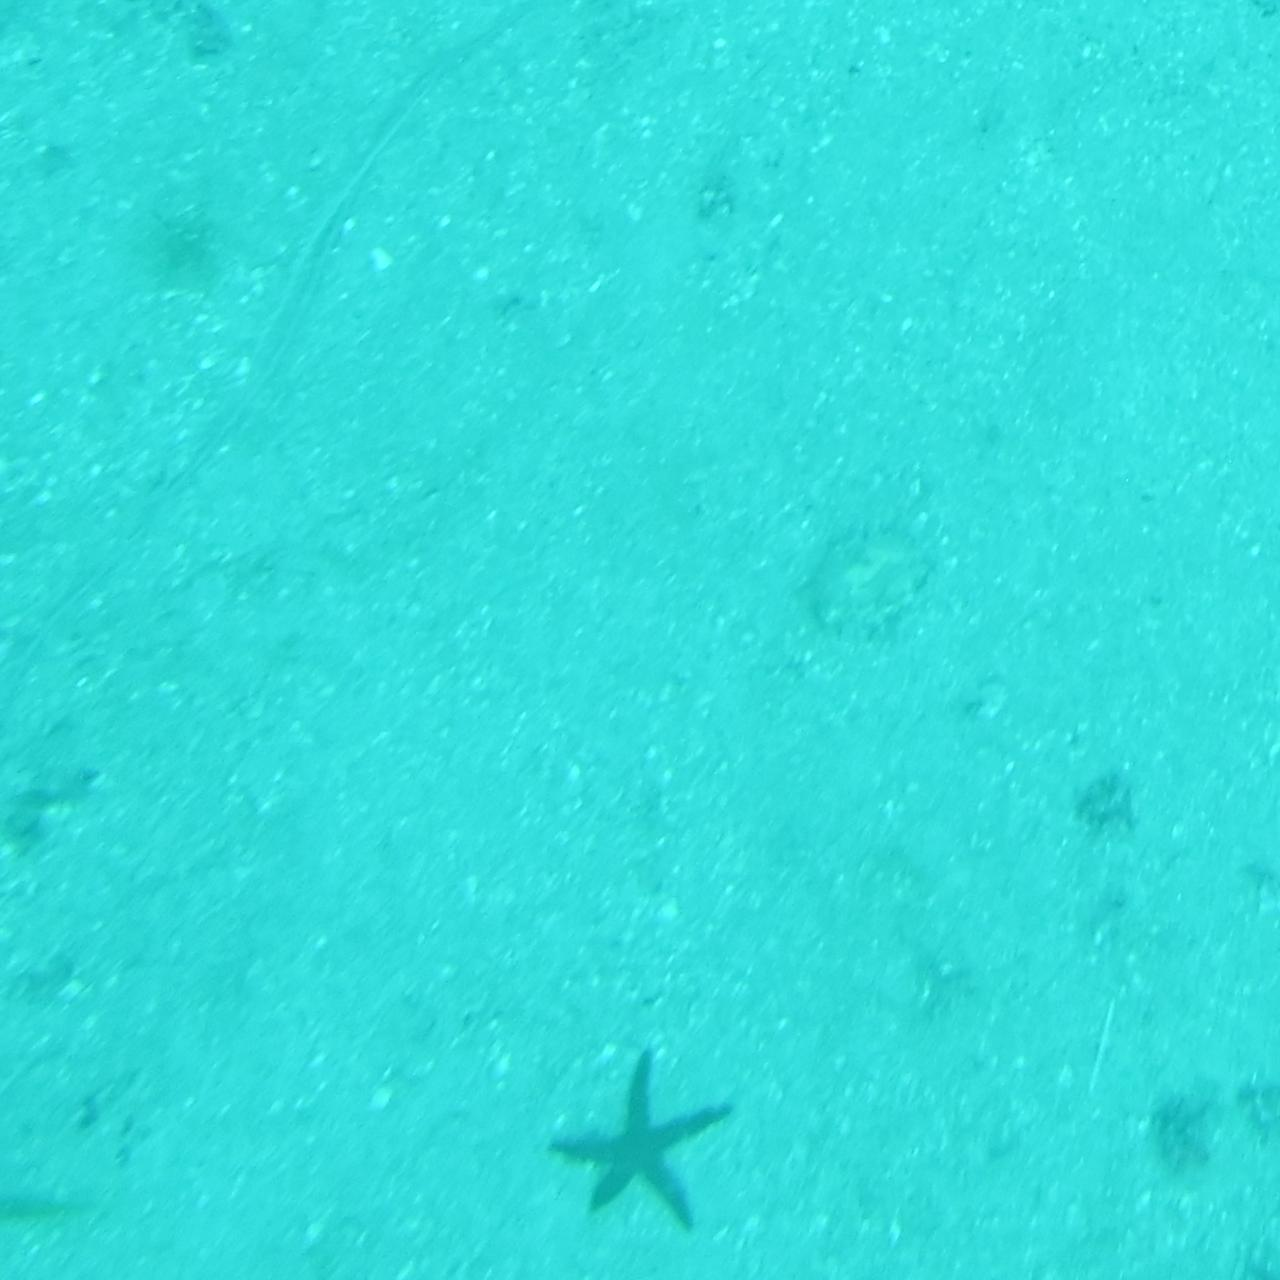Asteroidea: (544, 1036, 736, 1240)
